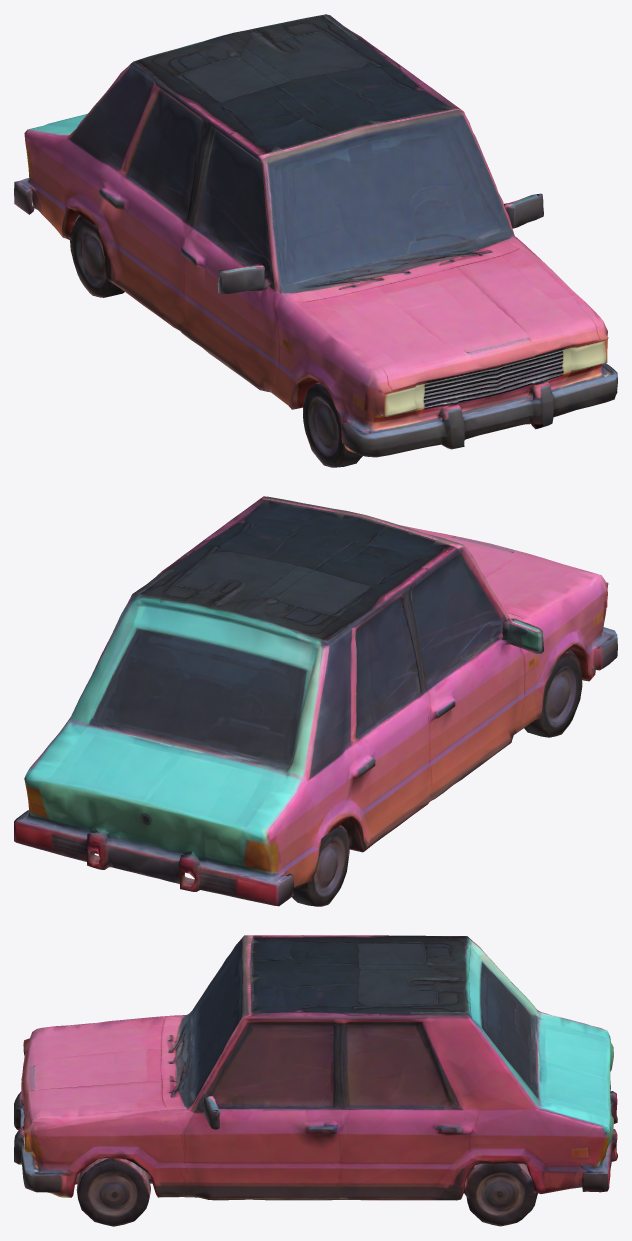
Rendered from Coche_lowpoly_ambient_0215220947_texture.fbx.
The picture shows the model from 3 angles, top to bottom: view 1: azimuth 30°, elevation 25°; view 2: azimuth 150°, elevation 25°; view 3: azimuth 270°, elevation 25°; orthographic projection. The views are drawn at different scales.
Parts seen in each view (by area): view 1: Mesh1_Mesh1.036; view 2: Mesh1_Mesh1.036; view 3: Mesh1_Mesh1.036.
Part boxes in pixels (box(x1,y1,x2,y2)): Mesh1_Mesh1.036: box(14, 14, 617, 467); Mesh1_Mesh1.036: box(14, 496, 617, 906); Mesh1_Mesh1.036: box(14, 935, 617, 1226).
Bounding box in the file's own units: 104 × 76.13 × 200.
Materials: 1 (1 with a texture image).
